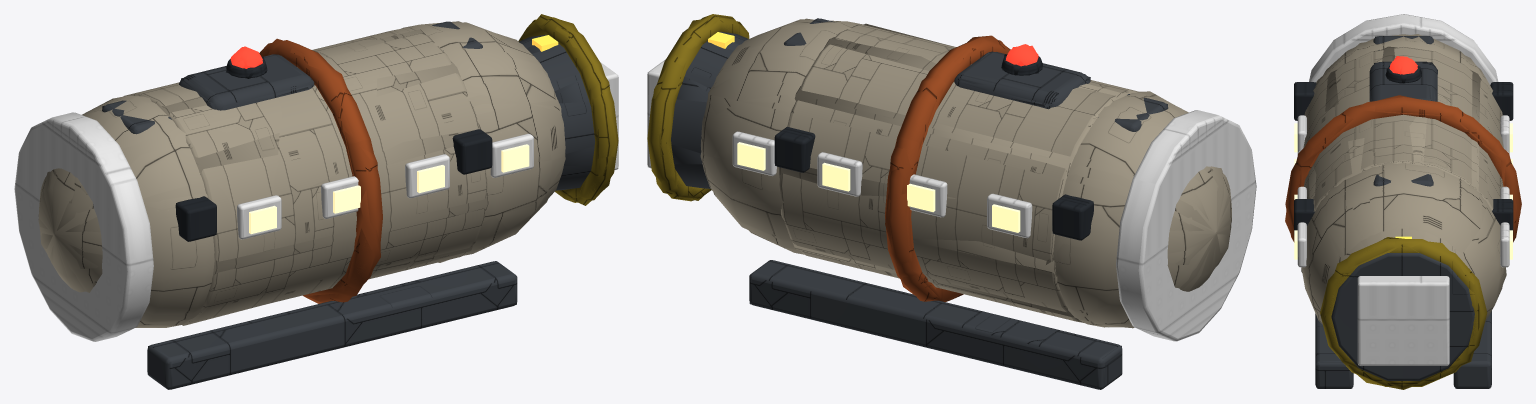
The model's file is place_47a_rescue_capsule.glb.
3 renders of one model, left to right at view 1: azimuth 30°, elevation 25°; view 2: azimuth 150°, elevation 25°; view 3: azimuth 270°, elevation 25°, orthographic. The views are drawn at different scales.
Visible parts, largest first — view 1: LOD0_Hull, LOD0_Armor, LOD0_MechanicalDark, LOD2_Hull, LOD1_Hull, LOD0_Livery, LOD0_Warning, LOD0_Mechanical, LOD1_Livery, LOD0_Lights_Warm, LOD2_Livery, LOD2_Warning (+5 smaller); view 2: LOD0_Hull, LOD0_Armor, LOD0_MechanicalDark, LOD2_Hull, LOD1_Hull, LOD0_Livery, LOD0_Warning, LOD0_Mechanical, LOD0_Lights_Warm, LOD2_Livery, LOD1_Livery, LOD1_Lights_Warm (+5 smaller); view 3: LOD0_Hull, LOD0_MechanicalDark, LOD0_Armor, LOD2_Hull, LOD1_Hull, LOD0_Livery, LOD0_Warning, LOD0_Mechanical, LOD2_Livery, LOD1_Livery, LOD2_Warning, LOD1_Warning (+6 smaller).
Part boxes in pixels (left/top/right/bottom): LOD0_Hull: left=38, top=22, right=565, bottom=327; LOD0_Armor: left=102, top=22, right=595, bottom=389; LOD0_MechanicalDark: left=15, top=62, right=618, bottom=341; LOD2_Hull: left=40, top=21, right=565, bottom=325; LOD1_Hull: left=38, top=22, right=565, bottom=325; LOD0_Livery: left=259, top=40, right=382, bottom=302; LOD0_Warning: left=518, top=17, right=618, bottom=202; LOD0_Mechanical: left=175, top=59, right=492, bottom=241; LOD1_Livery: left=260, top=40, right=382, bottom=300; LOD0_Lights_Warm: left=249, top=144, right=529, bottom=234; LOD2_Livery: left=261, top=38, right=380, bottom=303; LOD2_Warning: left=519, top=14, right=617, bottom=205; LOD0_Hull: left=701, top=19, right=1231, bottom=327; LOD0_Armor: left=671, top=18, right=1168, bottom=389; LOD0_MechanicalDark: left=647, top=59, right=1255, bottom=341; LOD2_Hull: left=700, top=18, right=1231, bottom=328; LOD1_Hull: left=701, top=20, right=1231, bottom=327; LOD0_Livery: left=885, top=37, right=1009, bottom=301; LOD0_Warning: left=647, top=14, right=746, bottom=201; LOD0_Mechanical: left=774, top=56, right=1093, bottom=240; LOD0_Lights_Warm: left=737, top=142, right=1020, bottom=232; LOD2_Livery: left=885, top=35, right=1010, bottom=301; LOD1_Livery: left=885, top=37, right=1009, bottom=298; LOD1_Lights_Warm: left=737, top=142, right=1020, bottom=232; LOD0_Hull: left=1301, top=34, right=1505, bottom=322; LOD0_MechanicalDark: left=1297, top=14, right=1509, bottom=365; LOD0_Armor: left=1315, top=36, right=1491, bottom=388; LOD2_Hull: left=1301, top=34, right=1506, bottom=324; LOD1_Hull: left=1304, top=35, right=1505, bottom=311; LOD0_Livery: left=1285, top=97, right=1521, bottom=242; LOD0_Warning: left=1320, top=239, right=1487, bottom=386; LOD0_Mechanical: left=1294, top=66, right=1513, bottom=235; LOD2_Livery: left=1285, top=95, right=1520, bottom=241; LOD1_Livery: left=1286, top=97, right=1521, bottom=241; LOD2_Warning: left=1320, top=237, right=1477, bottom=389; LOD1_Warning: left=1323, top=239, right=1487, bottom=386.
Size of what is drawn, in the model's own units: 7.05 by 3.45 by 3.08.
9 materials, 6 textured.
